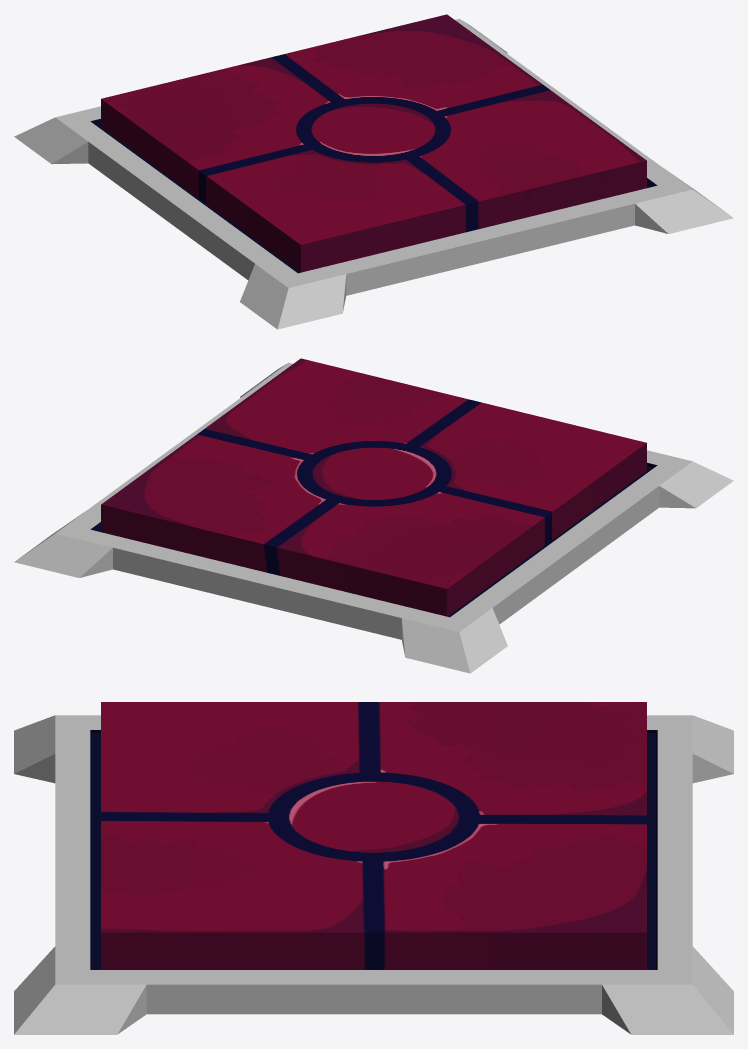
Rendered from pressure-plate.fbx.
3 renders of one model, top to bottom at view 1: azimuth 30°, elevation 25°; view 2: azimuth 150°, elevation 25°; view 3: azimuth 270°, elevation 25°, orthographic. The views are drawn at different scales.
Visible parts, largest first — view 1: Niet Joinen!, Portal esque rand; view 2: Niet Joinen!, Portal esque rand; view 3: Niet Joinen!, Portal esque rand.
Boxes of the visible parts, box(x1,y1,x2,y2) form: Niet Joinen!: box(101, 14, 646, 272); Portal esque rand: box(14, 18, 733, 329); Niet Joinen!: box(101, 358, 646, 616); Portal esque rand: box(14, 362, 733, 673); Niet Joinen!: box(101, 702, 646, 969); Portal esque rand: box(14, 715, 733, 1034).
Bounding box in the file's own units: 264 × 26.39 × 264.
Materials: 3 (1 with a texture image).
